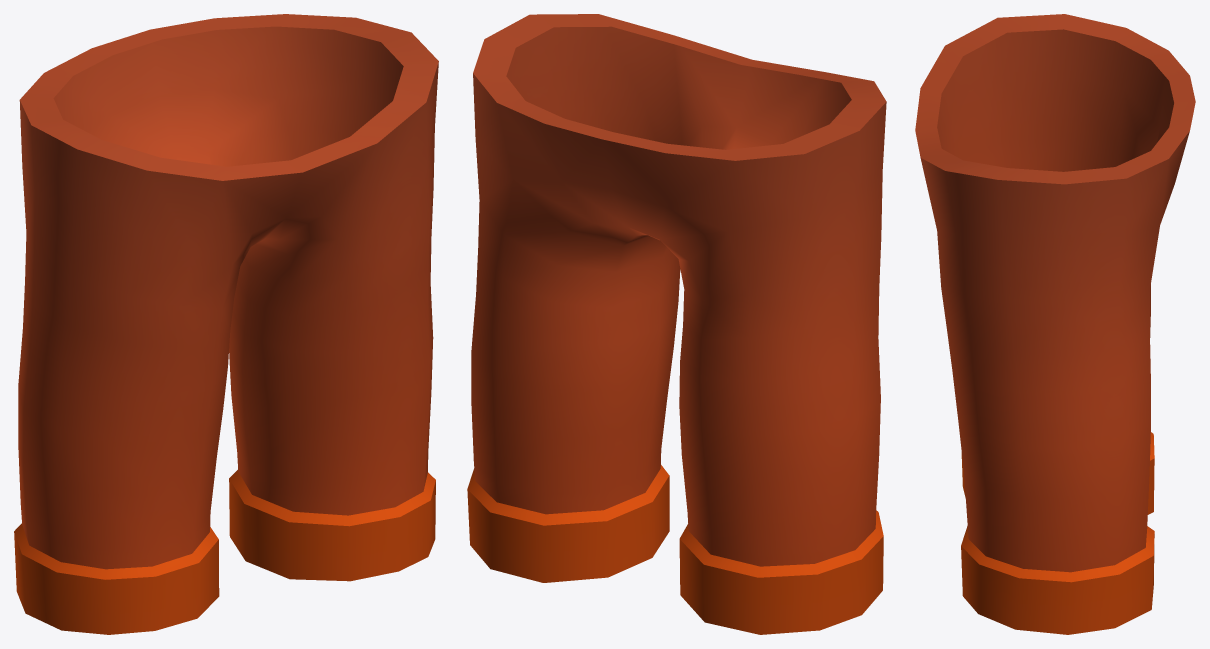
The model's file is Costume_2_03.glb.
3 renders of one model, left to right at view 1: azimuth 30°, elevation 25°; view 2: azimuth 150°, elevation 25°; view 3: azimuth 270°, elevation 25°, orthographic. The views are drawn at different scales.
Parts seen in each view (by area): view 1: Costume_2_03; view 2: Costume_2_03; view 3: Costume_2_03.
Boxes of the visible parts, x1,y1,x2,y2 form: Costume_2_03: (14,14,438,634); Costume_2_03: (467,14,886,634); Costume_2_03: (915,14,1195,634).
Size of the model in its own units: 0.2439 by 0.2937 by 0.1647.
1 material, 1 textured.
